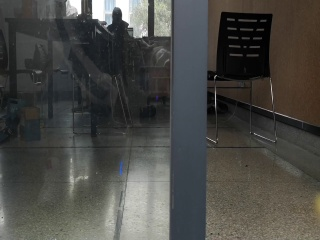room: (1, 1, 320, 237)
